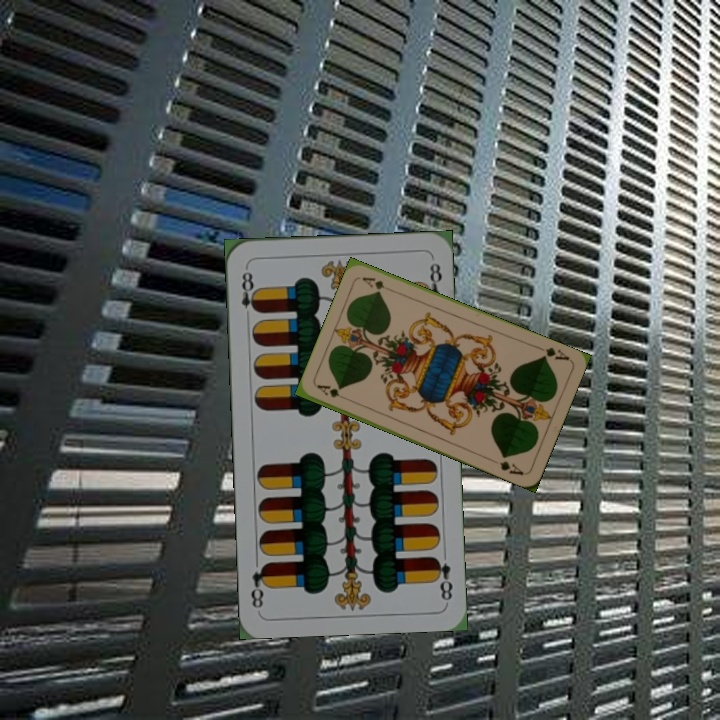E8: (237, 263, 261, 322), (429, 553, 456, 604)
GA: (313, 380, 352, 404), (533, 342, 572, 363)
